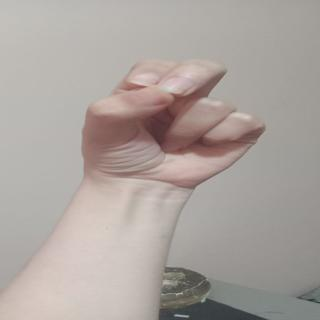QAAF: (83, 43, 291, 184)
